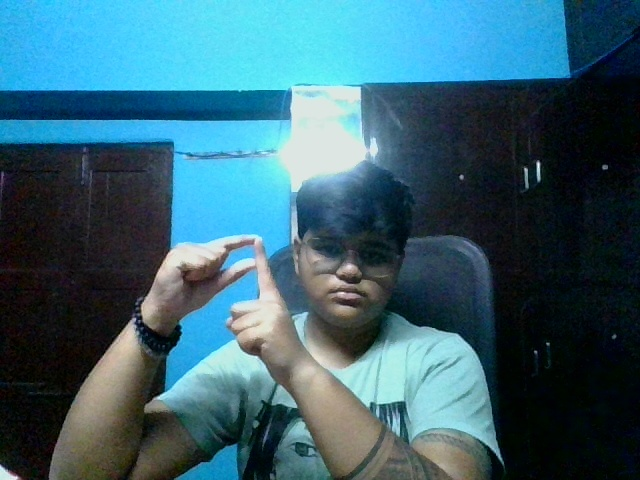P: (159, 227, 296, 378)
